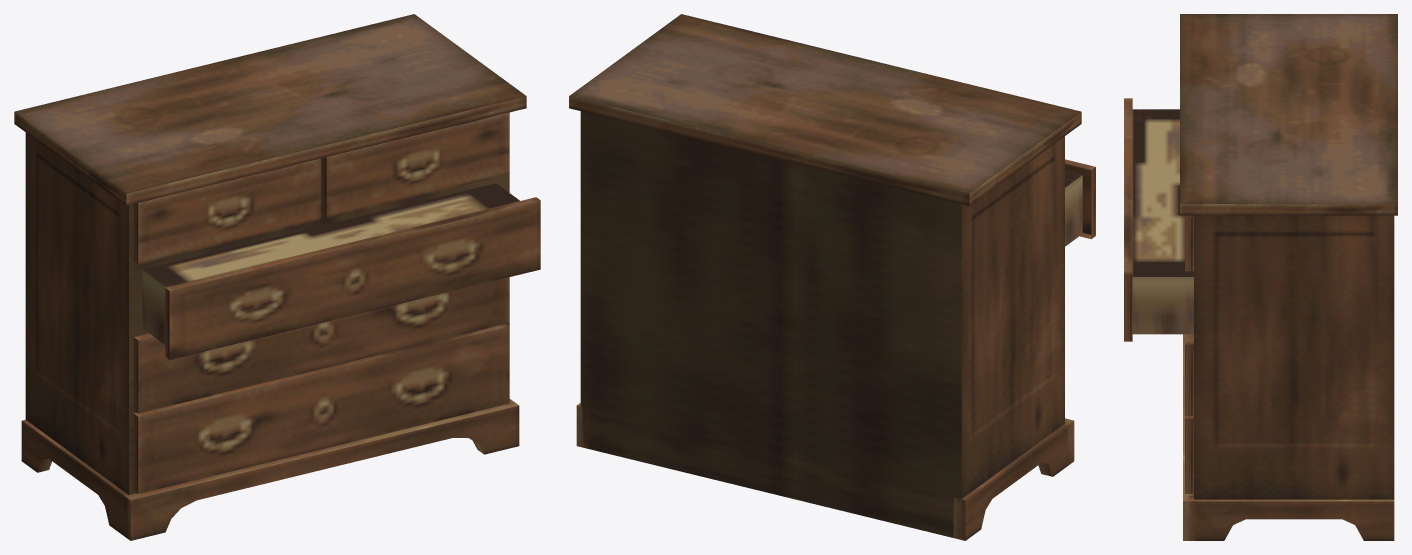
File: dresser_drawers.obj
The picture shows the model from 3 angles, left to right: view 1: azimuth 30°, elevation 25°; view 2: azimuth 150°, elevation 25°; view 3: azimuth 270°, elevation 25°; orthographic projection. The views are drawn at different scales.
Parts seen in each view (by area): view 1: dresser_drawers; view 2: dresser_drawers; view 3: dresser_drawers.
Part boxes in pixels (left/top/right/bottom): dresser_drawers: left=14, top=14, right=540, bottom=540; dresser_drawers: left=569, top=14, right=1095, bottom=540; dresser_drawers: left=1124, top=14, right=1397, bottom=540.
Size of the model in its own units: 1.03 by 0.86 by 0.628.
Materials: 1 (1 with a texture image).
